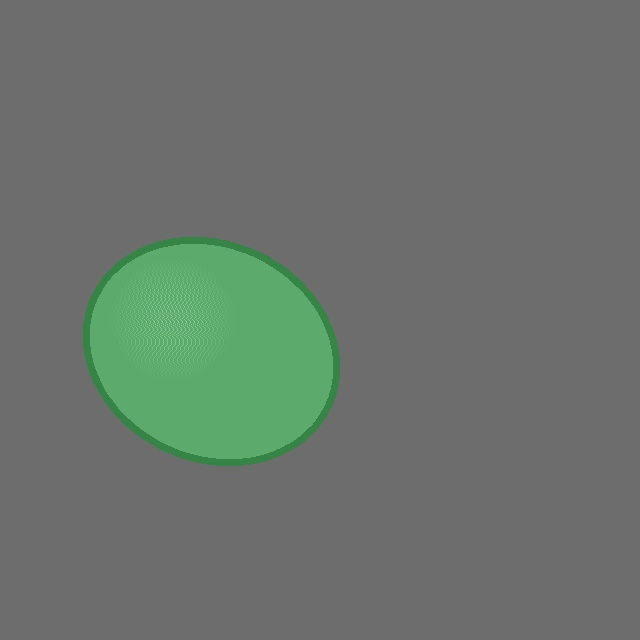lens: (86, 240, 336, 462)
